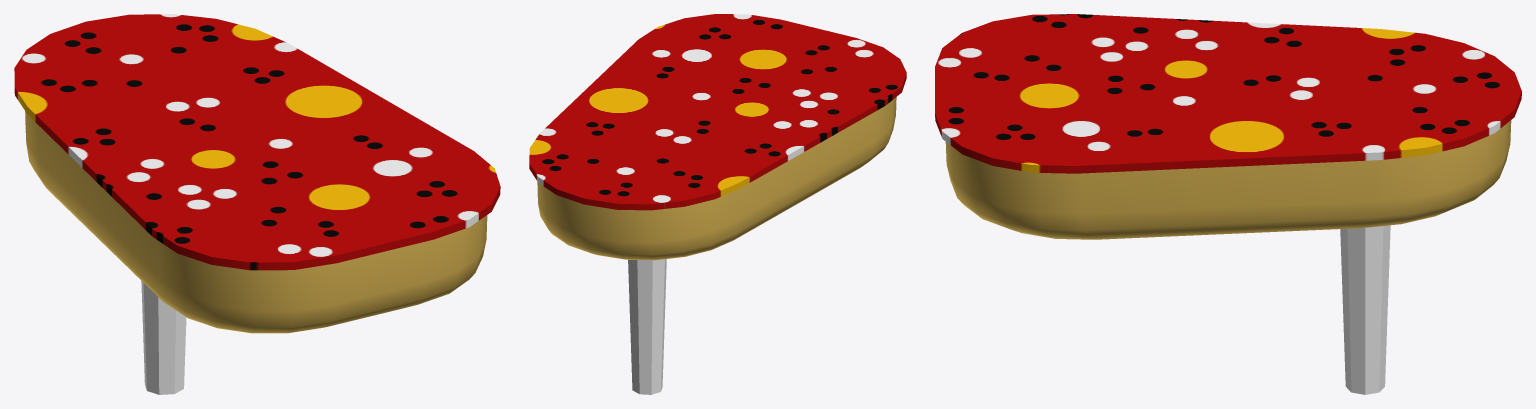
File: noise maker.FBX
3 renders of one model, left to right at view 1: azimuth 30°, elevation 25°; view 2: azimuth 150°, elevation 25°; view 3: azimuth 270°, elevation 25°, orthographic. The views are drawn at different scales.
Visible parts, largest first — view 1: noise maker body, noise maker handle; view 2: noise maker body, noise maker handle; view 3: noise maker body, noise maker handle.
Boxes of the visible parts, x1,y1,x2,y2 form: noise maker body: (14,14,500,333); noise maker handle: (141,281,186,394); noise maker body: (529,14,906,260); noise maker handle: (628,259,666,394); noise maker body: (935,14,1521,239); noise maker handle: (1340,225,1390,394).
Size of the model in its own units: 0.0939 by 0.1531 by 0.0854.
